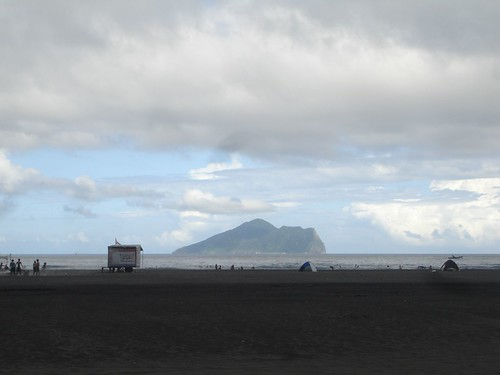turtleIsland: (169, 220, 327, 255)
